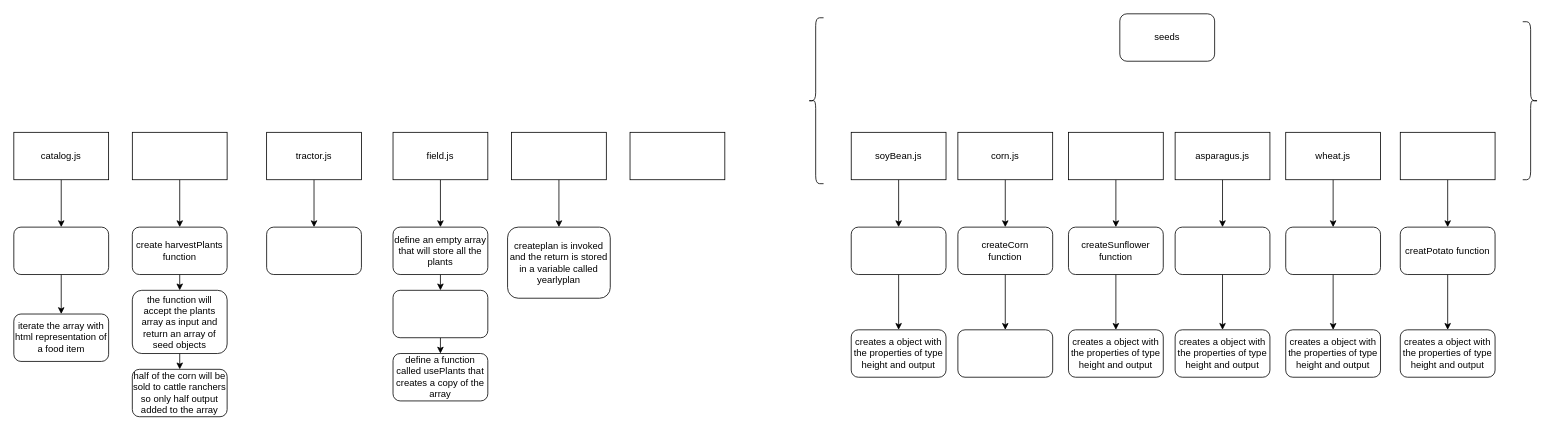
This 1552x431 diagram has some shape labels left out. Here are the shapes that lost their labels. From the top down, the centre of each, then its label:
At (x=179, y=156): "harvester.js".
At (x=558, y=156): "main.js".
At (x=677, y=156): "plan.js".
At (x=1115, y=156): "sunflower.js".
At (x=1447, y=156): "potato.js".
At (x=61, y=250): "create a catalog function should accept the harvest food array as input".
At (x=313, y=250): "define and export a plantSeeds function".
At (x=898, y=250): "createSoyBean function".
At (x=1222, y=250): "createAspargus function".
At (x=1333, y=250): "createWheat function".
At (x=440, y=314): "define function addPlant must accept seed object in input".
At (x=1005, y=353): "createCorn should have two identical objects".
